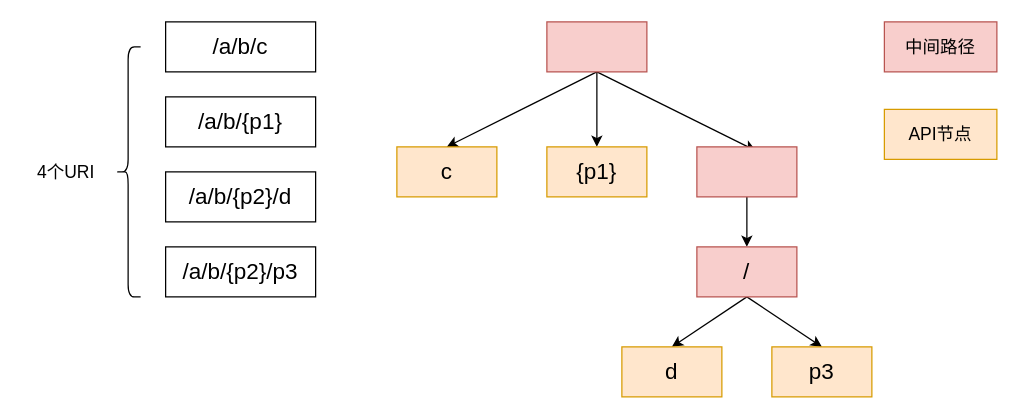
This 1019x419 diagram has some shape labels left out. Here are the shapes that lost their labels. From the top down, the box of each, then its label:
(546, 21, 647, 72): /a/b/
(696, 146, 797, 197): {p2}
